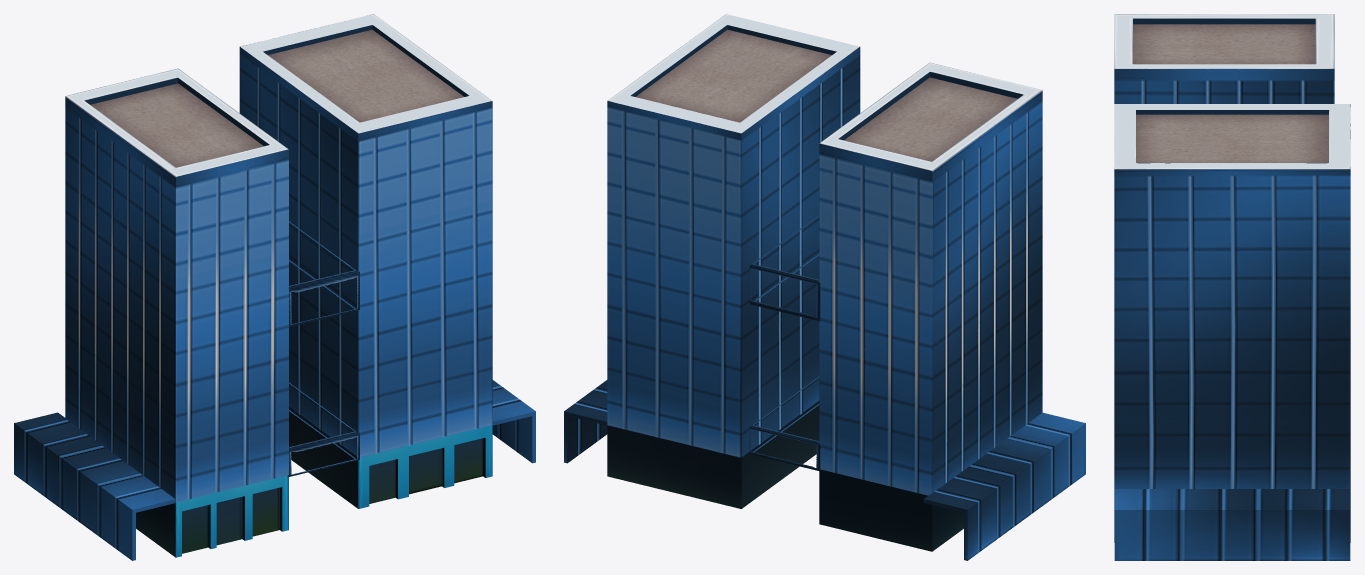
Rendered from Tx_Exterior_Business_Office1.fbx.
The picture shows the model from 3 angles, left to right: view 1: azimuth 30°, elevation 25°; view 2: azimuth 150°, elevation 25°; view 3: azimuth 270°, elevation 25°; orthographic projection.
Parts seen in each view (by area): view 1: Building, Transparent; view 2: Building, Transparent; view 3: Building, Transparent.
Boxes of the visible parts, bbox=[...] form: Building: bbox=[65, 14, 492, 557]; Transparent: bbox=[14, 221, 535, 560]; Building: bbox=[607, 14, 1042, 551]; Transparent: bbox=[564, 215, 1085, 560]; Building: bbox=[1114, 14, 1350, 542]; Transparent: bbox=[1114, 489, 1350, 560].
Bounding box in the file's own units: 34.91 × 31.47 × 17.78.
Materials: 2 (2 with a texture image).
